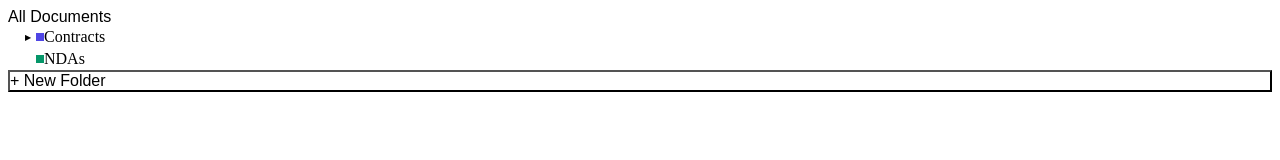
DocumentFolders › expands child folders when chevron is clicked
Click expand on Contracts
Click the button named "Expand Contracts" at (28, 37), box [20,29,36,45]
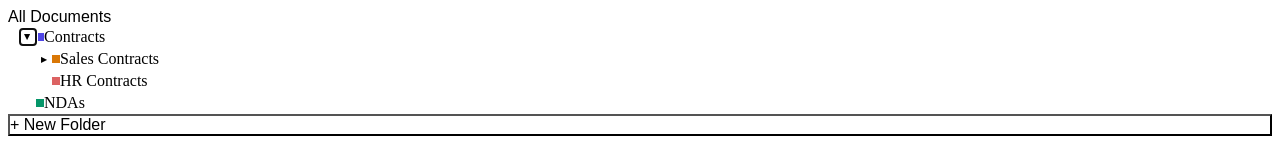
Check: the text "Sales Contracts" is shown, box [60,50,159,67]
Check: the text "HR Contracts" is shown, box [60,72,148,89]
